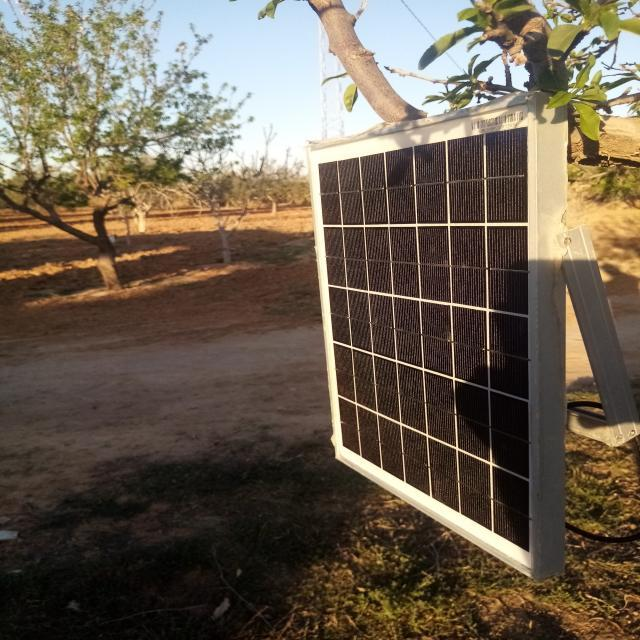no faulty: (308, 96, 536, 579)
